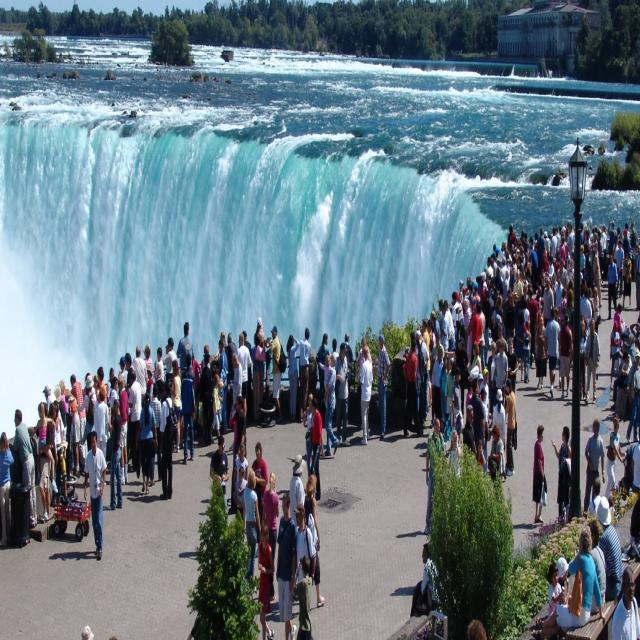body: (463, 404, 598, 640), (486, 224, 608, 326), (529, 522, 606, 640), (535, 525, 606, 631), (8, 406, 38, 530), (276, 491, 298, 640), (594, 494, 624, 602), (84, 430, 108, 561), (304, 473, 326, 609), (423, 414, 447, 536), (134, 392, 158, 496), (292, 500, 317, 598), (582, 418, 606, 520), (256, 522, 276, 639), (228, 394, 247, 515), (402, 337, 424, 439), (243, 468, 262, 584), (34, 401, 52, 522), (250, 440, 268, 560), (611, 565, 640, 639), (106, 397, 124, 512), (550, 424, 572, 518), (604, 414, 627, 501), (180, 351, 197, 466), (227, 394, 243, 516), (159, 380, 175, 501), (291, 553, 312, 640), (70, 373, 88, 474), (0, 429, 15, 550), (323, 352, 340, 457), (375, 331, 391, 441), (452, 272, 486, 323), (74, 374, 98, 446), (336, 342, 352, 449), (53, 399, 69, 505), (262, 470, 280, 563), (63, 388, 81, 480), (127, 366, 142, 474), (209, 434, 230, 511), (116, 373, 130, 488), (429, 330, 445, 430), (544, 305, 561, 399), (310, 397, 325, 502), (628, 429, 640, 557), (359, 344, 374, 446), (584, 316, 601, 406), (356, 336, 372, 431), (288, 454, 306, 537), (613, 216, 640, 270), (407, 331, 421, 434), (93, 383, 111, 463), (558, 312, 574, 400), (228, 352, 242, 452), (504, 378, 518, 478), (414, 328, 429, 421), (270, 324, 284, 423), (298, 325, 312, 424), (492, 388, 507, 480), (420, 542, 440, 611), (236, 332, 252, 418), (626, 349, 640, 445), (199, 351, 213, 446), (491, 338, 509, 411), (532, 424, 545, 524), (469, 376, 486, 452), (286, 332, 300, 424), (514, 311, 532, 382), (149, 384, 162, 482), (169, 358, 182, 453), (317, 332, 330, 426), (416, 330, 430, 416), (416, 329, 428, 429), (430, 345, 444, 429), (546, 560, 565, 620), (176, 320, 194, 382), (254, 316, 266, 409), (242, 329, 253, 429), (132, 345, 149, 409), (534, 313, 548, 390), (609, 318, 623, 393), (486, 340, 498, 427), (466, 302, 482, 367), (190, 353, 202, 436), (444, 358, 457, 433), (218, 339, 228, 436), (303, 393, 314, 481), (622, 316, 640, 369), (250, 332, 260, 426), (421, 318, 431, 412), (606, 253, 619, 321), (438, 352, 451, 419), (318, 353, 333, 411), (234, 465, 249, 523), (224, 332, 235, 408), (452, 366, 464, 434), (53, 384, 67, 442), (233, 442, 249, 492), (490, 424, 504, 481), (210, 374, 222, 438), (520, 320, 532, 384), (80, 621, 120, 640), (506, 336, 519, 394), (586, 476, 602, 521), (447, 429, 461, 480), (478, 300, 487, 379), (611, 370, 627, 414), (557, 556, 571, 606), (443, 299, 456, 352), (162, 336, 176, 384), (465, 612, 489, 640), (463, 297, 472, 371), (580, 320, 588, 402), (124, 350, 137, 400), (483, 287, 491, 367), (479, 367, 490, 424), (622, 248, 632, 310), (614, 238, 624, 299), (439, 302, 450, 354), (491, 305, 506, 343), (154, 346, 164, 402), (556, 326, 564, 391), (95, 365, 107, 405), (42, 384, 57, 414), (613, 302, 623, 347), (591, 286, 600, 336), (216, 378, 224, 432), (563, 486, 574, 525), (634, 243, 640, 313), (610, 480, 622, 515), (470, 340, 482, 374), (427, 318, 436, 363), (344, 332, 354, 372), (126, 425, 134, 475), (430, 309, 441, 345), (606, 220, 618, 253), (59, 378, 70, 413), (528, 325, 536, 373), (106, 366, 115, 406), (145, 364, 154, 403), (118, 356, 128, 390), (109, 375, 119, 408), (142, 343, 153, 372), (475, 438, 486, 467), (202, 344, 212, 374), (329, 338, 339, 366), (210, 356, 220, 381), (466, 378, 474, 408), (82, 371, 91, 397), (220, 331, 228, 359), (570, 326, 574, 377), (439, 417, 447, 442), (436, 299, 444, 321), (477, 372, 484, 390), (93, 374, 99, 390), (164, 342, 169, 355)
